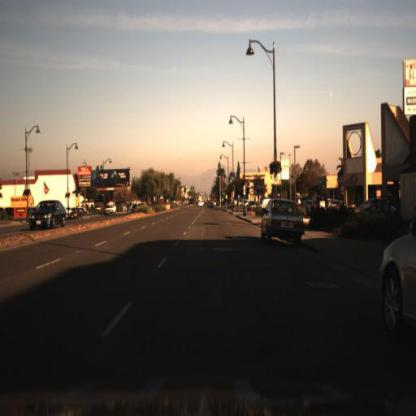car: (381, 226, 416, 343), (256, 197, 315, 247), (259, 195, 308, 248), (30, 200, 68, 232), (65, 207, 90, 223), (103, 201, 119, 219)
